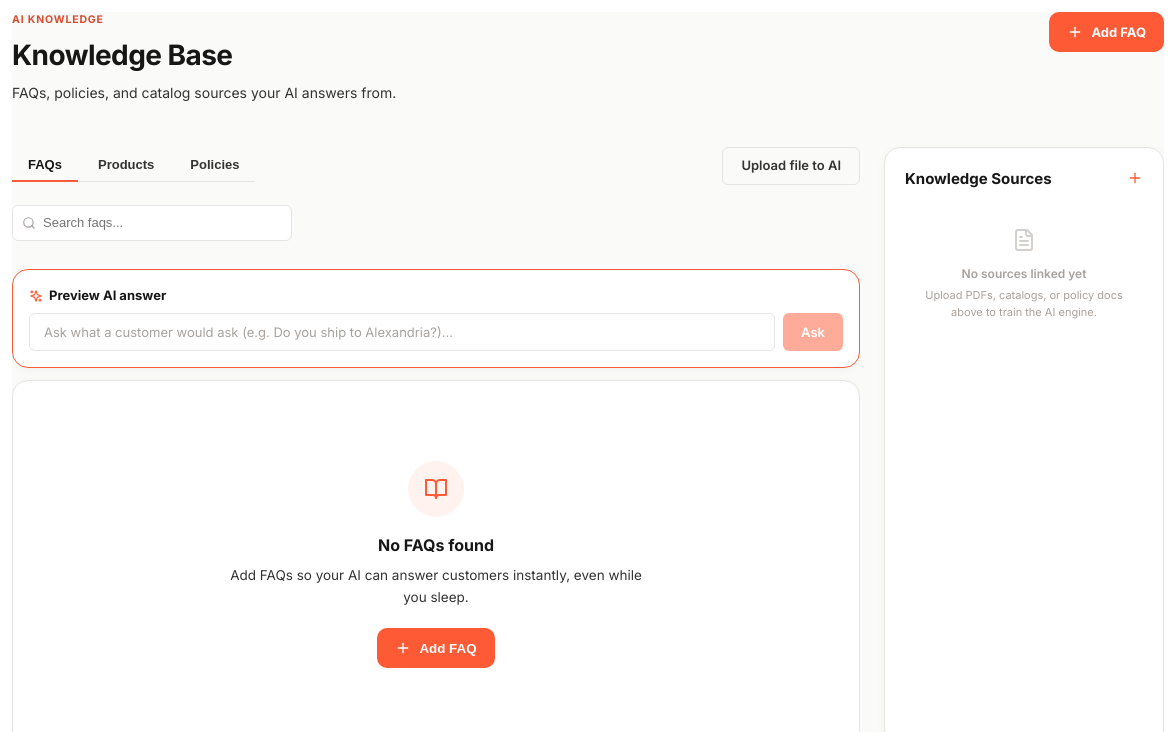
Test: Knowledge page › falls back to local response and warning toast when knowledge service is unreachable
This screenshot has width=1176, height=732.
Step 1. Replace the text in the field with placeholder "Ask what a customer would ask" with "How fast is shipping?" → {"x": 402, "y": 332}, box [29,313,775,351]
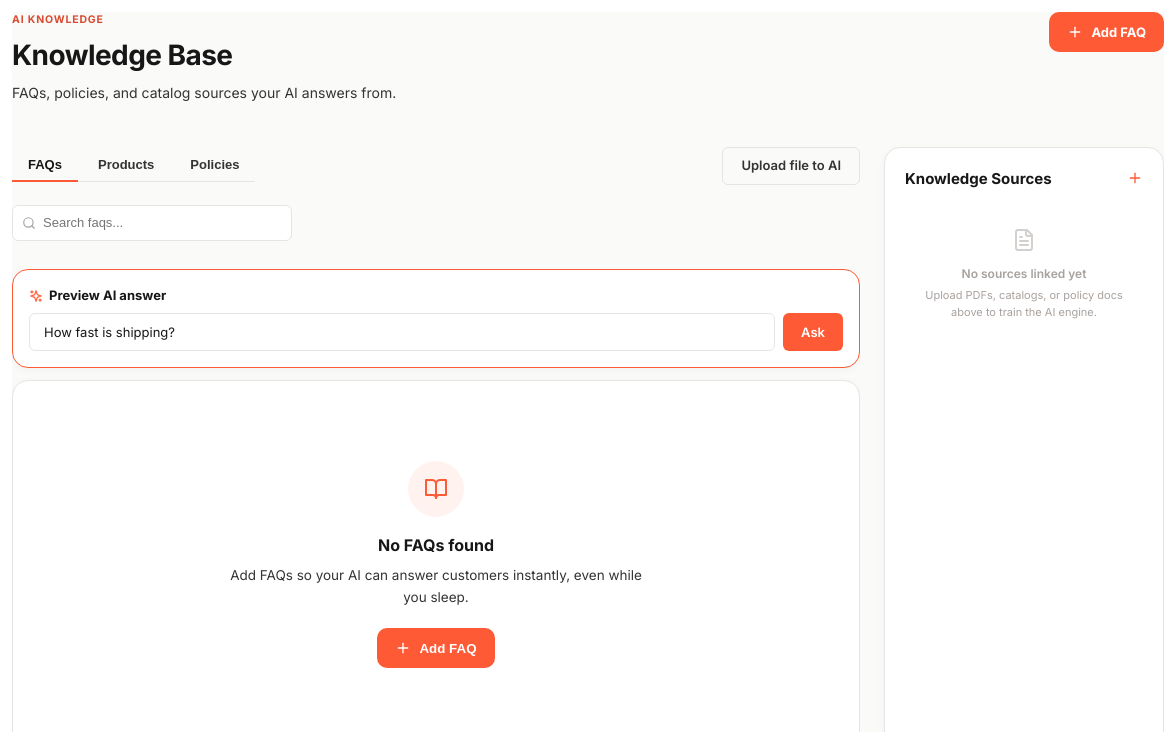
Step 2. Click the button "Ask" → {"x": 813, "y": 332}, box [783,313,843,351]
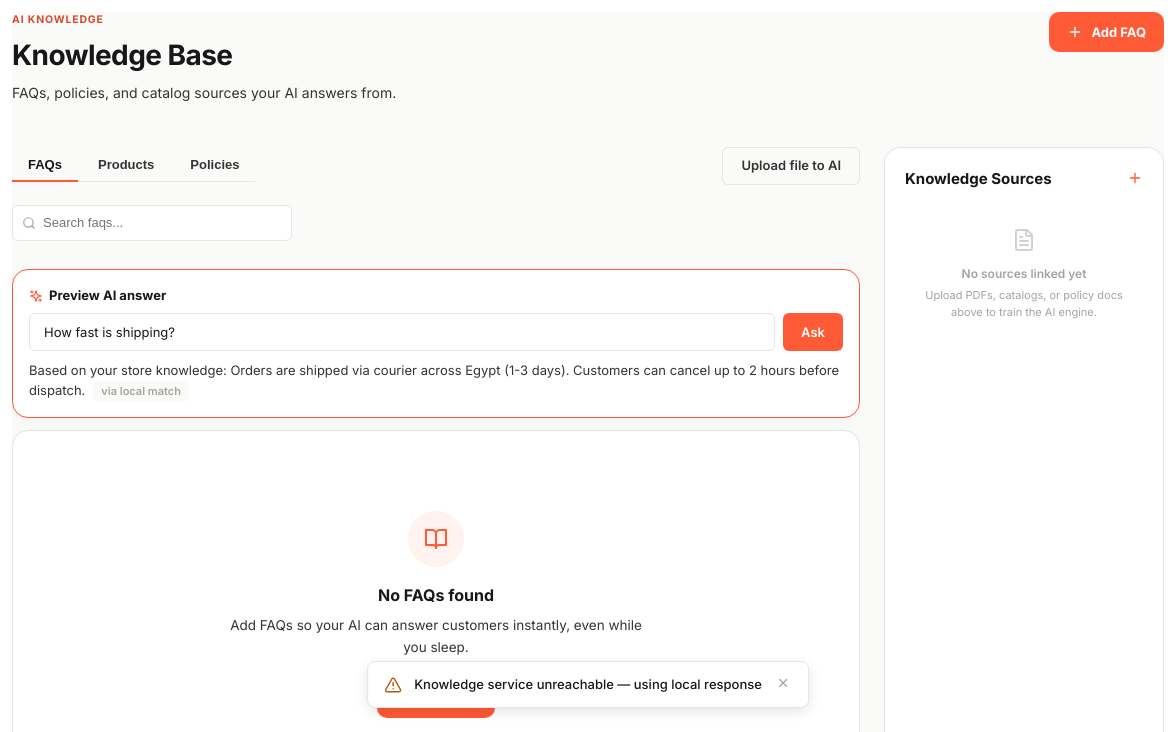
Expected: the text "Knowledge service unreachable — using local response" is shown, [414,675,762,694]
Expected: the text "via local match" is shown, [93,381,189,401]
